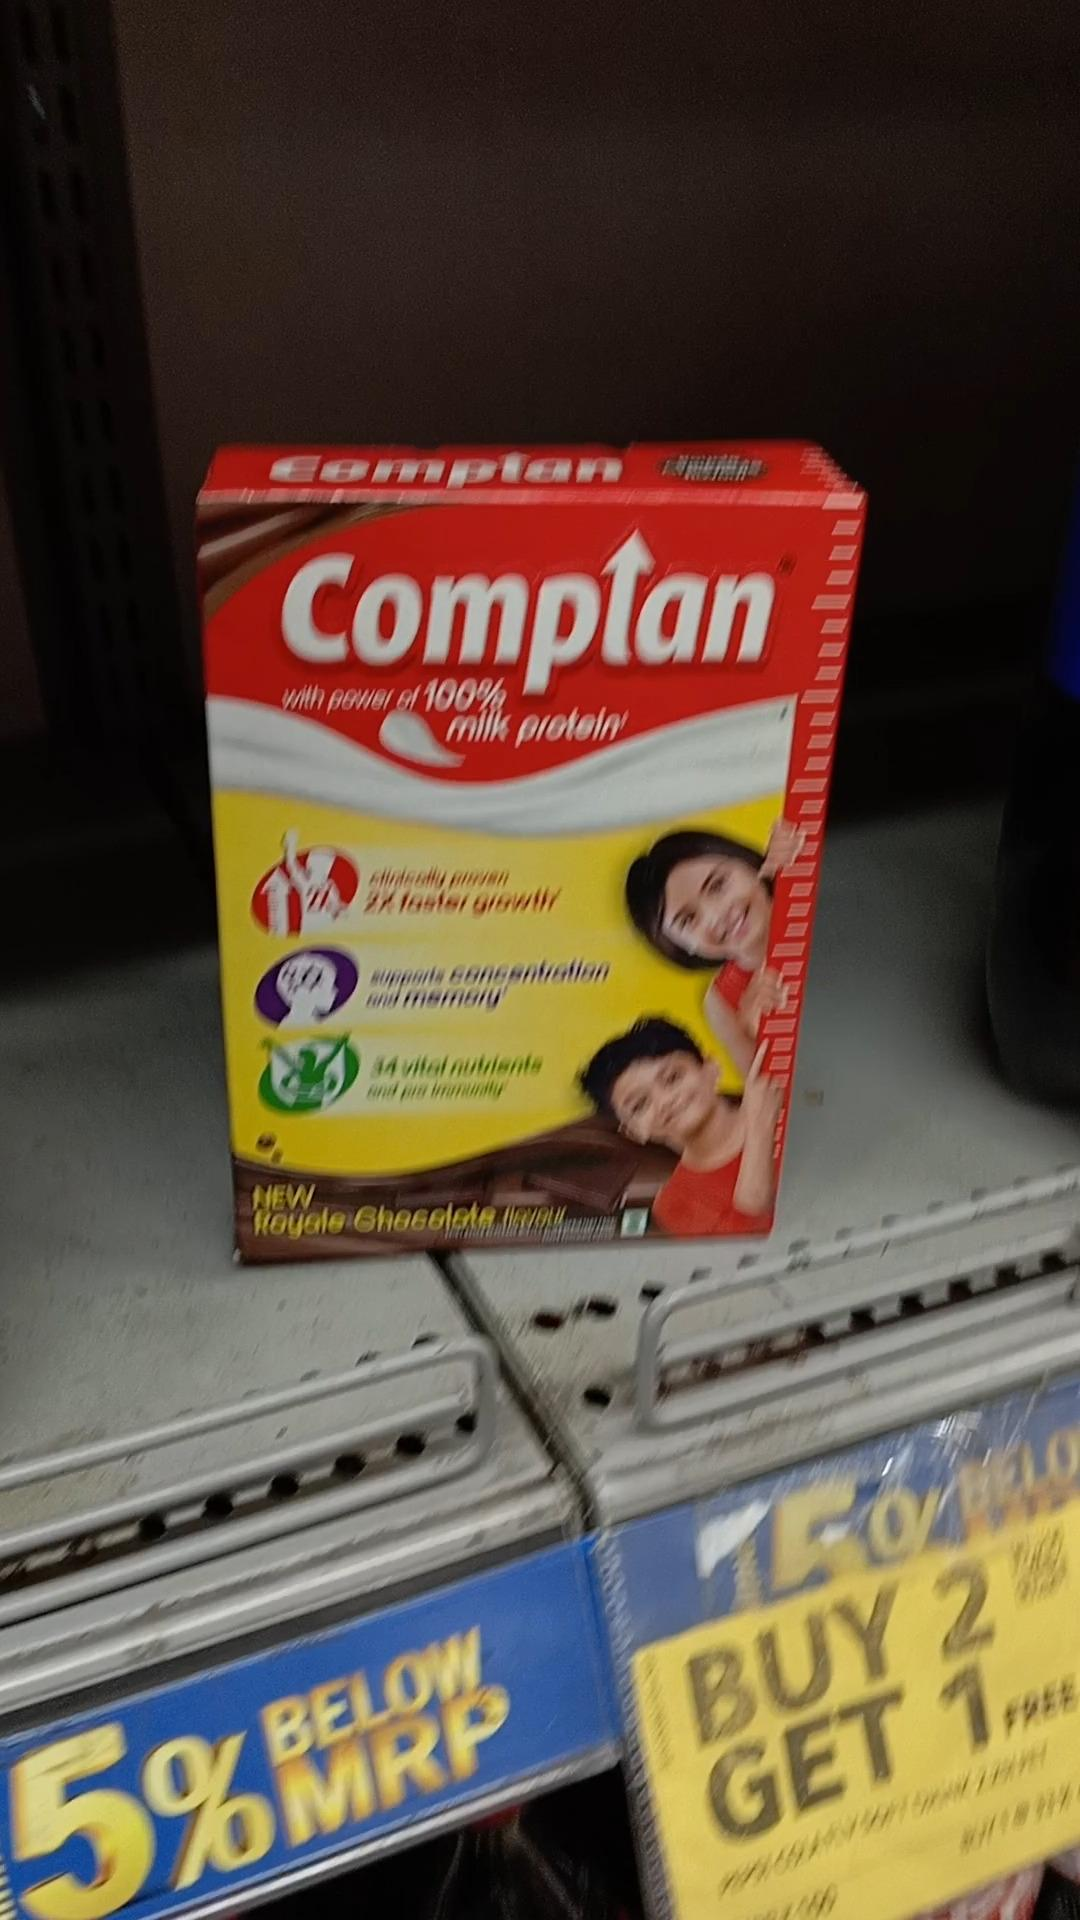COMPLAN_CHOCOLATE_200_GMS_PACK: (204, 469, 775, 1240)
